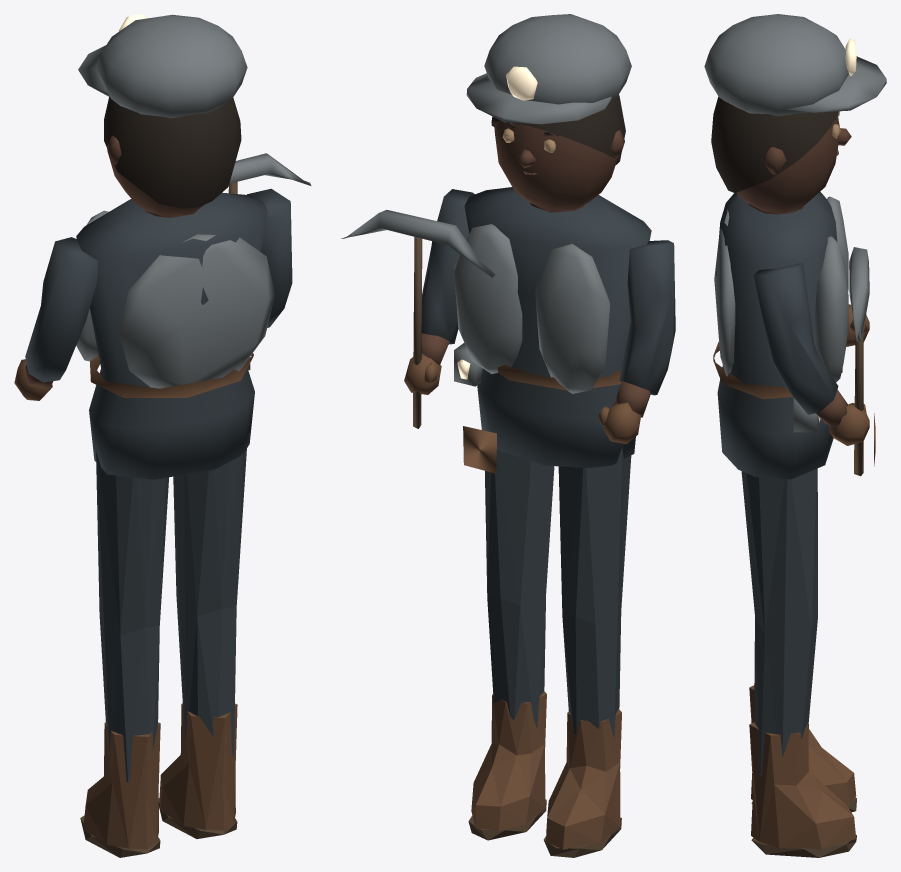
Rendered from SM_NPC_PEDRO_MEDIA.glb.
3 renders of one model, left to right at view 1: azimuth 30°, elevation 25°; view 2: azimuth 150°, elevation 25°; view 3: azimuth 270°, elevation 25°, orthographic. The views are drawn at different scales.
Visible parts, largest first — view 1: SM_NPC_PEDRO_BODY, SM_NPC_PEDRO_HEAD, SM_NPC_PEDRO_ARM_L, SM_NPC_PEDRO_ARM_R; view 2: SM_NPC_PEDRO_BODY, SM_NPC_PEDRO_HEAD, SM_NPC_PEDRO_ARM_R, SM_NPC_PEDRO_ARM_L; view 3: SM_NPC_PEDRO_BODY, SM_NPC_PEDRO_HEAD, SM_NPC_PEDRO_ARM_R, SM_NPC_PEDRO_ARM_L.
Part boxes in pixels (bbox=[...]): SM_NPC_PEDRO_BODY: bbox=[76, 192, 275, 857]; SM_NPC_PEDRO_HEAD: bbox=[78, 14, 247, 215]; SM_NPC_PEDRO_ARM_L: bbox=[14, 237, 97, 400]; SM_NPC_PEDRO_ARM_R: bbox=[228, 153, 311, 327]; SM_NPC_PEDRO_BODY: bbox=[454, 187, 651, 857]; SM_NPC_PEDRO_HEAD: bbox=[466, 14, 631, 211]; SM_NPC_PEDRO_ARM_R: bbox=[341, 189, 495, 428]; SM_NPC_PEDRO_ARM_L: bbox=[598, 240, 675, 443]; SM_NPC_PEDRO_BODY: bbox=[713, 191, 875, 857]; SM_NPC_PEDRO_HEAD: bbox=[704, 14, 886, 212]; SM_NPC_PEDRO_ARM_R: bbox=[754, 247, 869, 476]; SM_NPC_PEDRO_ARM_L: bbox=[846, 304, 869, 346].
Size of the model in its own units: 0.7359 by 1.87 by 0.3848.
